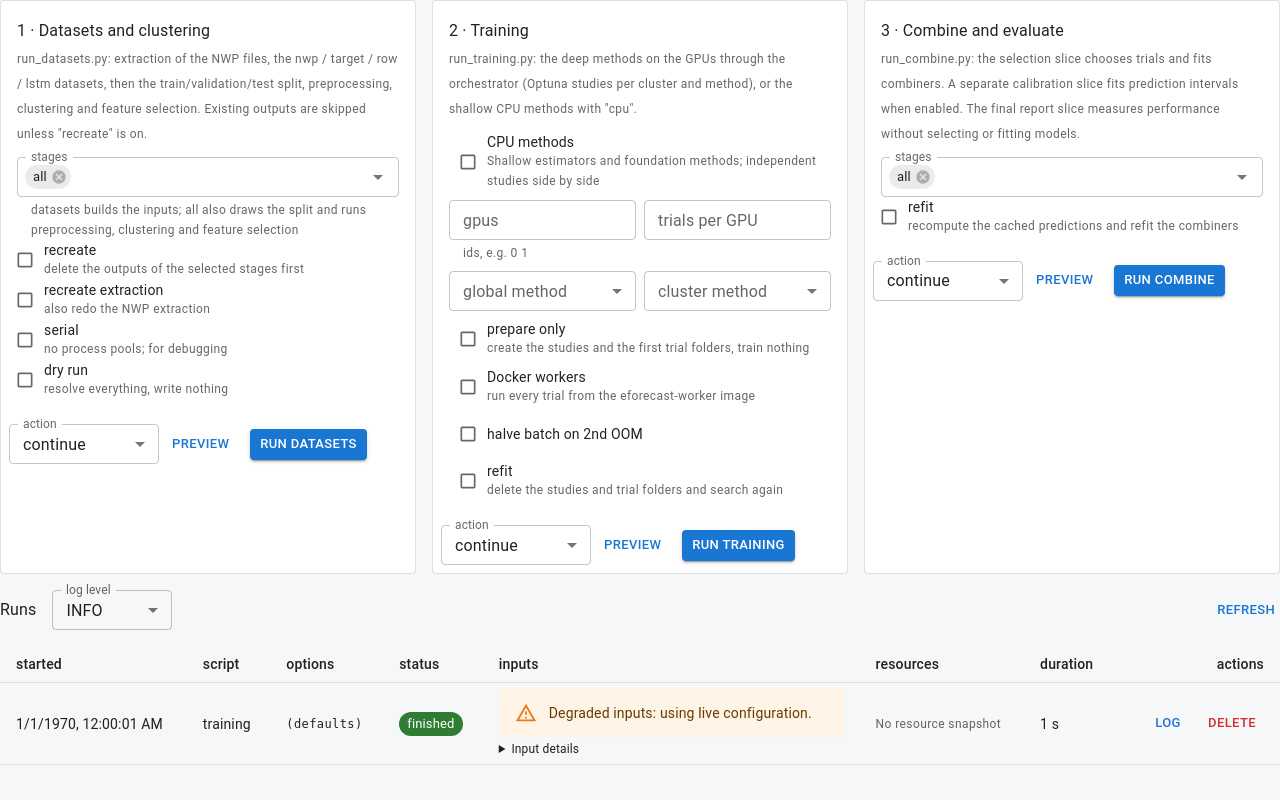
Test: run actions and failures › shows degraded input provenance in the run list and log
Expected: the text "Degraded inputs: using live configuration." is shown, [549,705,812,721]
Click the button "Log" at (1168, 724), box [1136,708,1200,739]
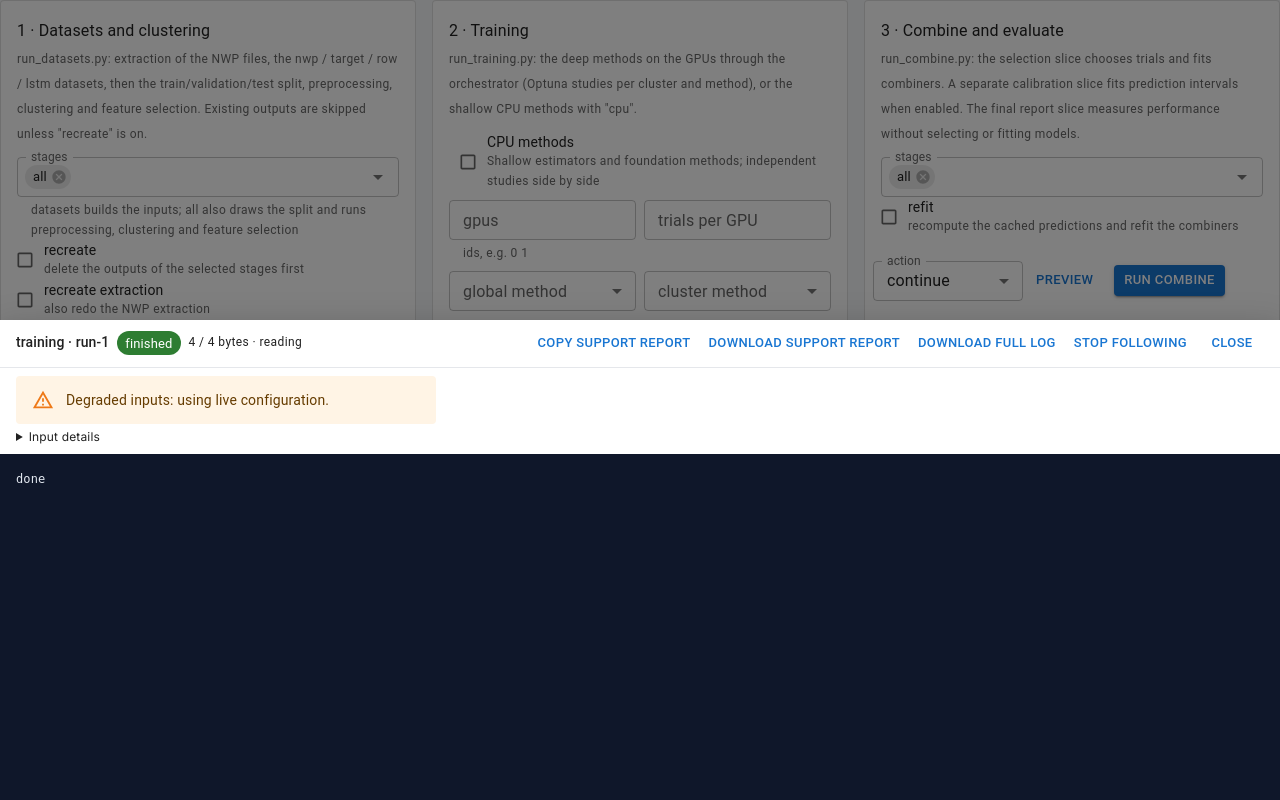
Result: the text "done" is shown at [0,454,1279,799]
Result: the text "Degraded inputs: using live configuration." is shown at [66,392,329,408]
Click the heading "Input details" at (64, 436), box [29,429,100,444]
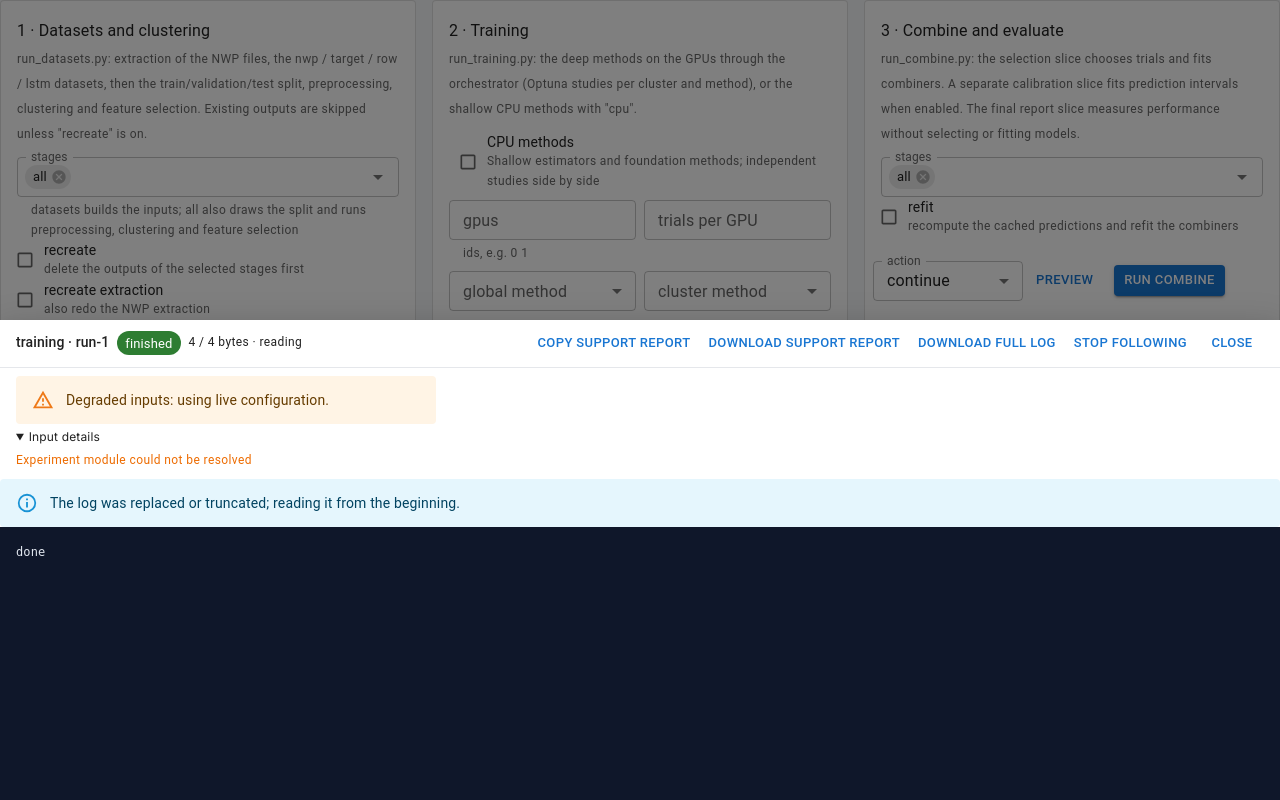
Result: the text "Experiment module could not be resolved" is shown at [16,453,252,467]
